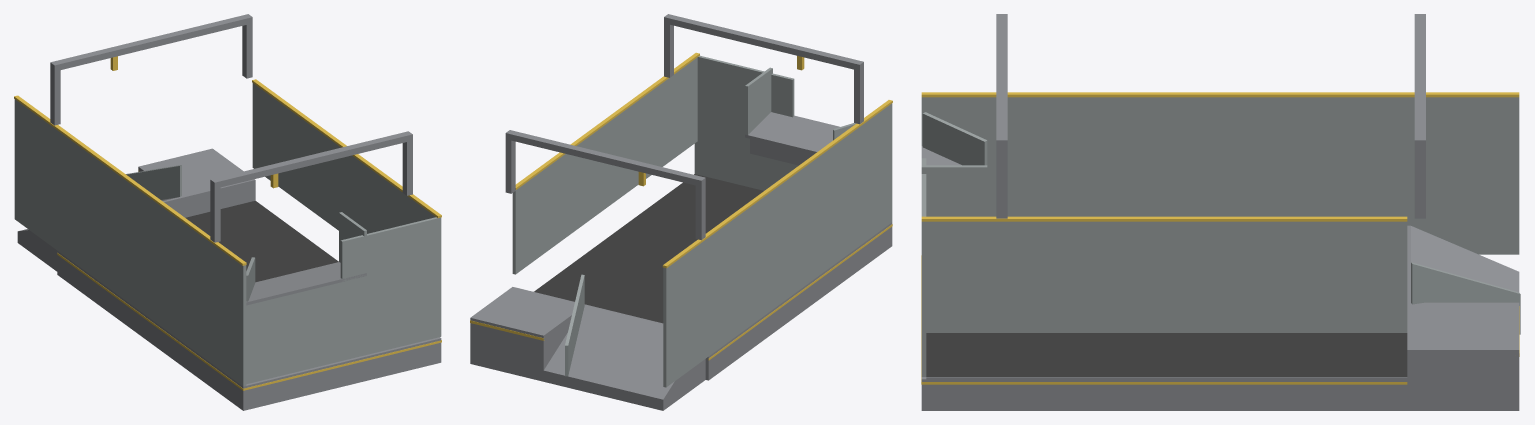
File: trommel.glb
3 renders of one model, left to right at view 1: azimuth 30°, elevation 25°; view 2: azimuth 150°, elevation 25°; view 3: azimuth 270°, elevation 25°, orthographic. The views are drawn at different scales.
Visible parts, largest first — view 1: Frame, Belt; view 2: Frame, Belt; view 3: Frame, Belt.
Part boxes in pixels (bbox=[...]): Frame: bbox=[14, 14, 441, 410]; Belt: bbox=[185, 200, 338, 282]; Frame: bbox=[470, 14, 892, 410]; Belt: bbox=[534, 174, 763, 323]; Frame: bbox=[921, 14, 1520, 410]; Belt: bbox=[926, 333, 1407, 376].
Bounding box in the file's own units: 4.02 × 4 × 8.02.
